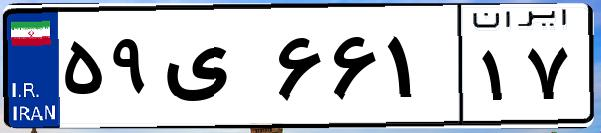1: (385, 28, 445, 110), (475, 38, 525, 113)
5: (57, 26, 110, 100)
6: (270, 28, 330, 110), (330, 28, 385, 110)
7: (525, 38, 570, 115)
9: (110, 28, 158, 98)
ی: (158, 20, 270, 120)
